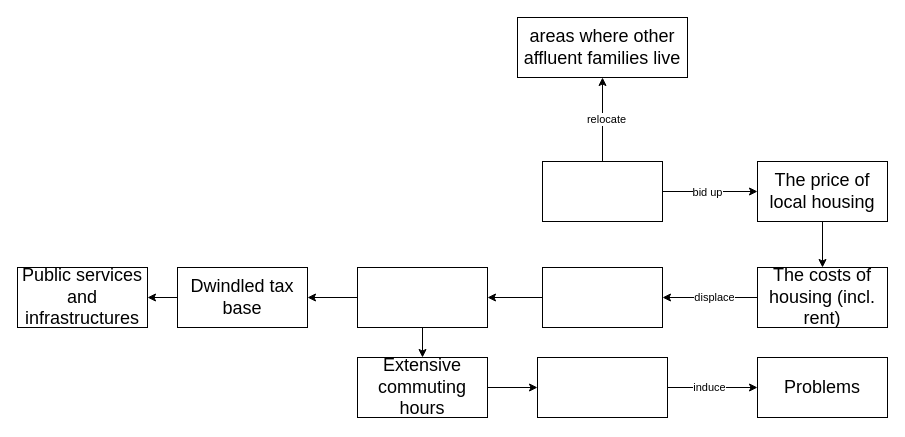
Image size: 905x437. Some labels were removed from this diagram. Here are the shapes that lost their labels. From the top down, the box of each, then its label:
(542, 160, 662, 222): Affluent families
(356, 266, 488, 328): Outlying towns
(542, 266, 662, 328): Families with lower income
(536, 356, 668, 418): Burn out lifestyle
